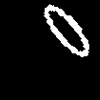chain: (44, 5, 88, 56)
